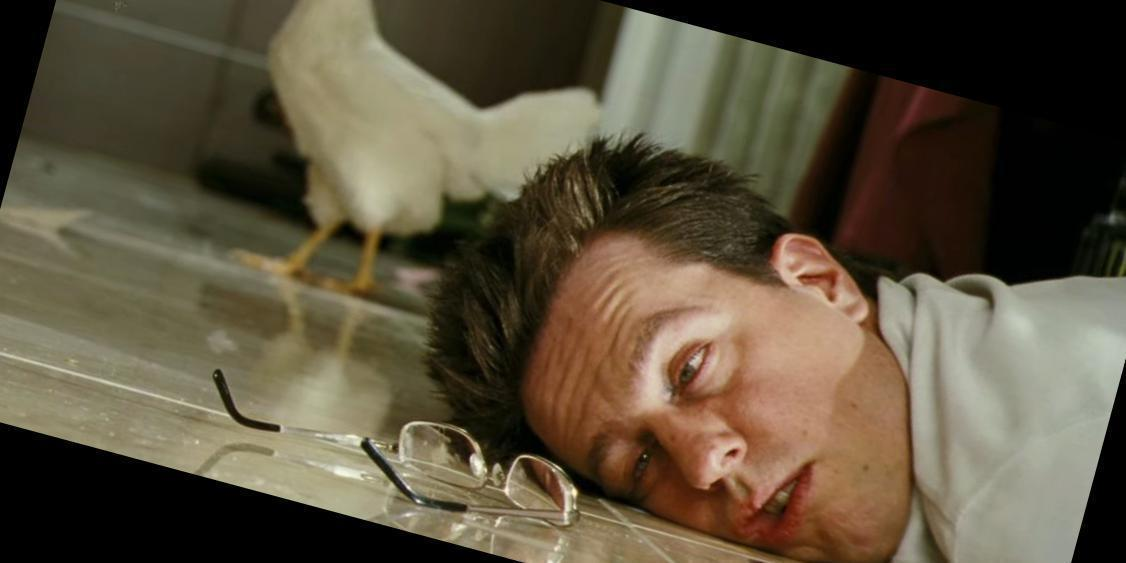Drunk: (551, 297, 881, 536)
